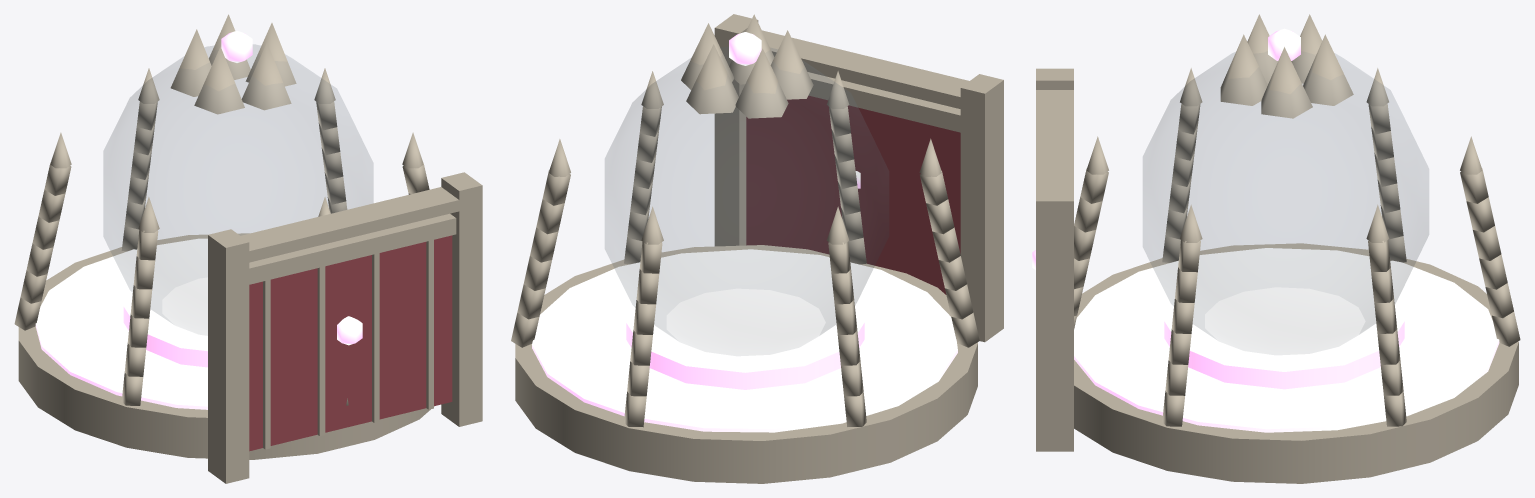
The model's file is MonsterHub_NULL_Hatchery.glb.
3 renders of one model, left to right at view 1: azimuth 30°, elevation 25°; view 2: azimuth 150°, elevation 25°; view 3: azimuth 270°, elevation 25°, orthographic. The views are drawn at different scales.
Parts seen in each view (by area): view 1: MonsterHub_NULL_Hatchery, MonsterHub_NULL_Hatchery_Gate; view 2: MonsterHub_NULL_Hatchery, MonsterHub_NULL_Hatchery_Gate; view 3: MonsterHub_NULL_Hatchery.
Boxes of the visible parts, x1=… form: MonsterHub_NULL_Hatchery: x1=14, y1=14, x2=482, y2=483; MonsterHub_NULL_Hatchery_Gate: x1=249, y1=213, x2=456, y2=451; MonsterHub_NULL_Hatchery: x1=511, y1=14, x2=1003, y2=483; MonsterHub_NULL_Hatchery_Gate: x1=746, y1=72, x2=960, y2=294; MonsterHub_NULL_Hatchery: x1=1036, y1=14, x2=1520, y2=483.
Bounding box in the file's own units: 4.91 × 4.13 × 5.12.
